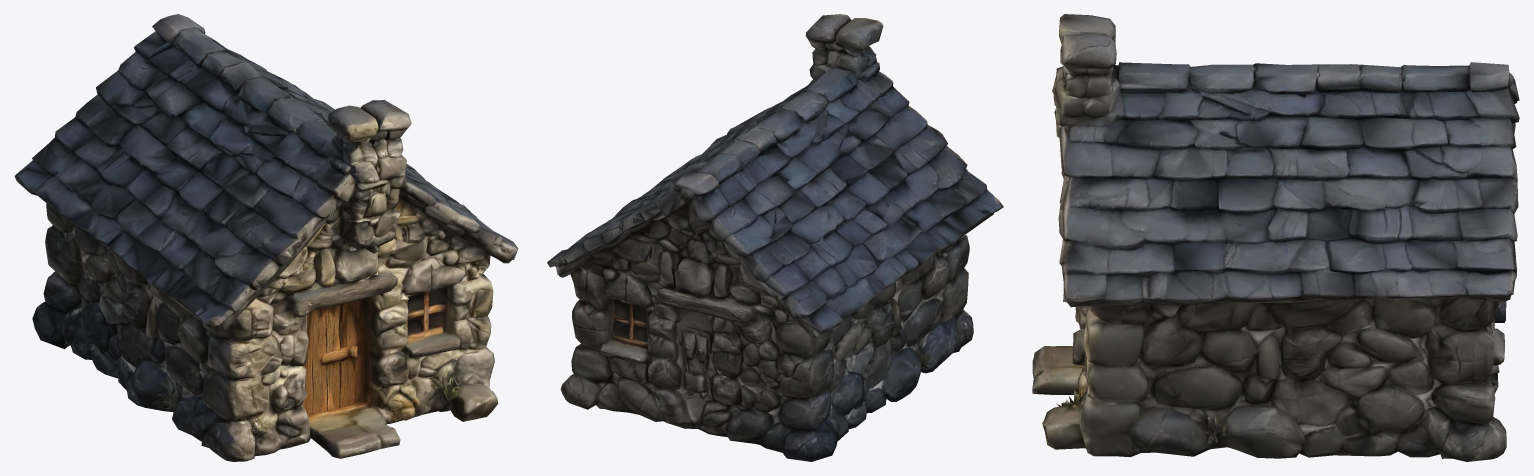
The model's file is stone-shelter.glb.
3 views of the same model, side by side, from view 1: azimuth 30°, elevation 25°; view 2: azimuth 150°, elevation 25°; view 3: azimuth 270°, elevation 25° (orthographic). The views are drawn at different scales.
Parts seen in each view (by area): view 1: node_fe68fc93-02ca-439a-bb50-5112ad43c7e2; view 2: node_fe68fc93-02ca-439a-bb50-5112ad43c7e2; view 3: node_fe68fc93-02ca-439a-bb50-5112ad43c7e2.
Part boxes in pixels (x1,y1,x2,y2): node_fe68fc93-02ca-439a-bb50-5112ad43c7e2: (14,14,518,461); node_fe68fc93-02ca-439a-bb50-5112ad43c7e2: (547,14,1003,461); node_fe68fc93-02ca-439a-bb50-5112ad43c7e2: (1032,14,1519,461).
Size of the model in its own units: 0.816 by 0.8014 by 0.9769.
Materials: 1 (1 with a texture image).
